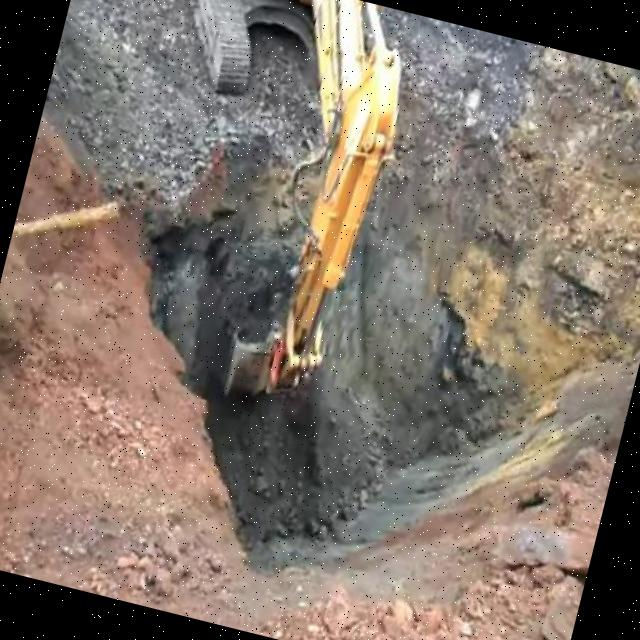Excavator: (75, 0, 427, 421)
